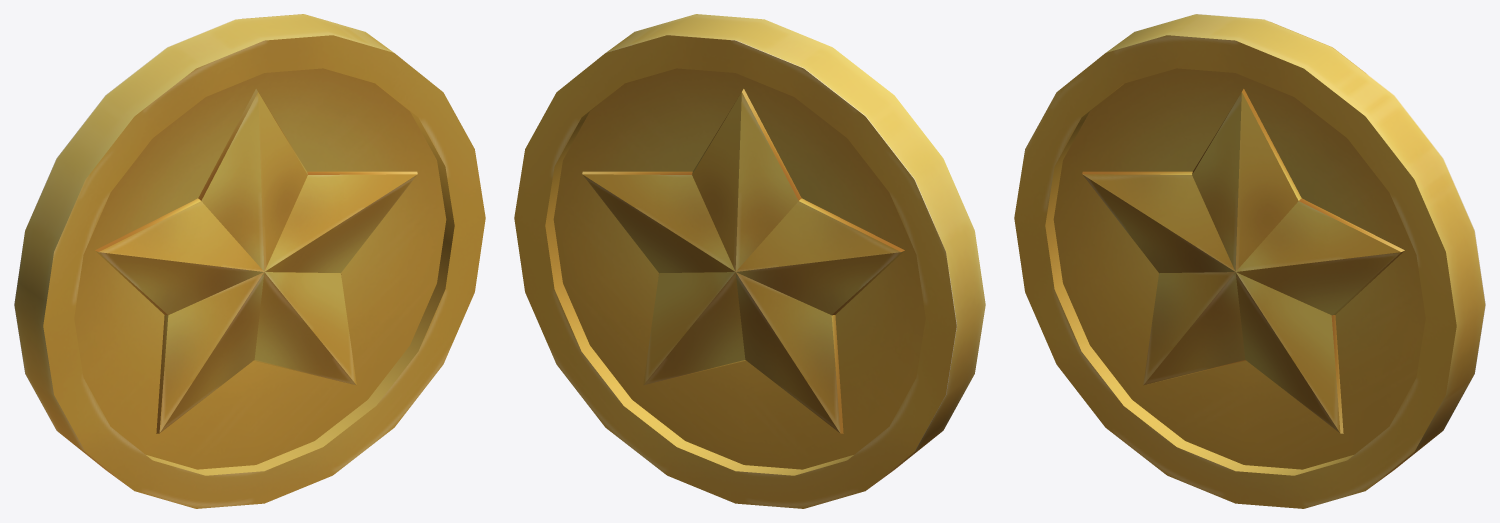
File: catcoin.fbx
3 views of the same model, side by side, from view 1: azimuth 30°, elevation 25°; view 2: azimuth 150°, elevation 25°; view 3: azimuth 330°, elevation 25° (orthographic).
Visible parts, largest first — view 1: coin; view 2: coin; view 3: coin.
Boxes of the visible parts, left/top/right/bottom form: coin: left=14, top=14, right=485, bottom=508; coin: left=514, top=14, right=985, bottom=508; coin: left=1014, top=14, right=1485, bottom=508.
Size of the model in its own units: 1 by 1 by 0.1133.
1 material, 1 textured.
